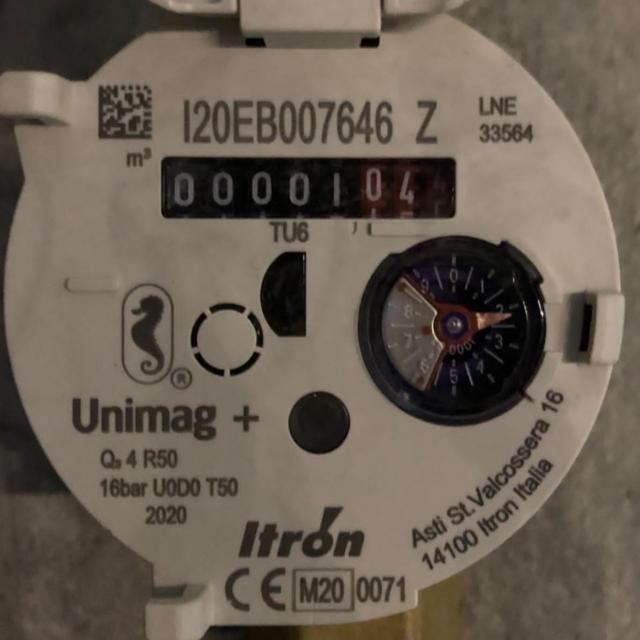gaz_meter: (0, 6, 626, 600)
indication: (158, 155, 459, 221)
